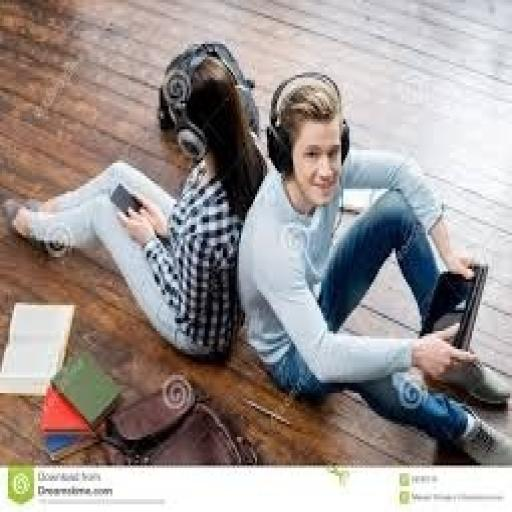texting: (235, 70, 510, 465), (0, 42, 267, 364)
